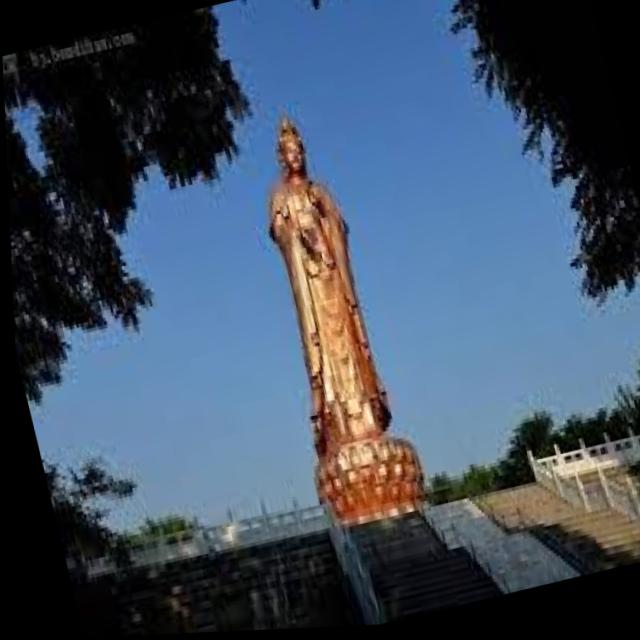Guan Yin: (235, 107, 399, 483)
